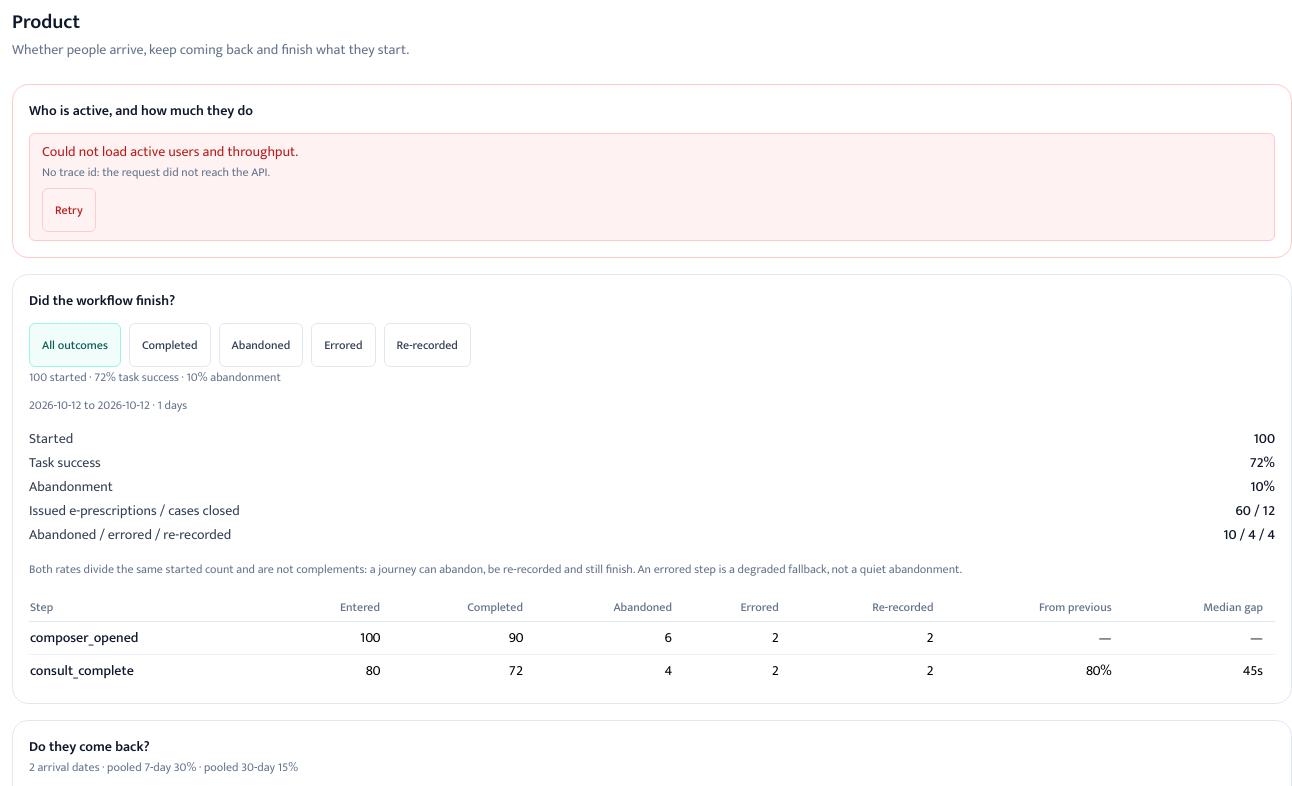
Test: ObservabilityProductPage › retries the failed read rather than the page
expect the message with test id "product-active-users-error" is shown: met, box [29, 133, 1275, 241]
Click the button with test id "product-active-users-retry": coordinates (69, 210) [42, 188, 96, 232]
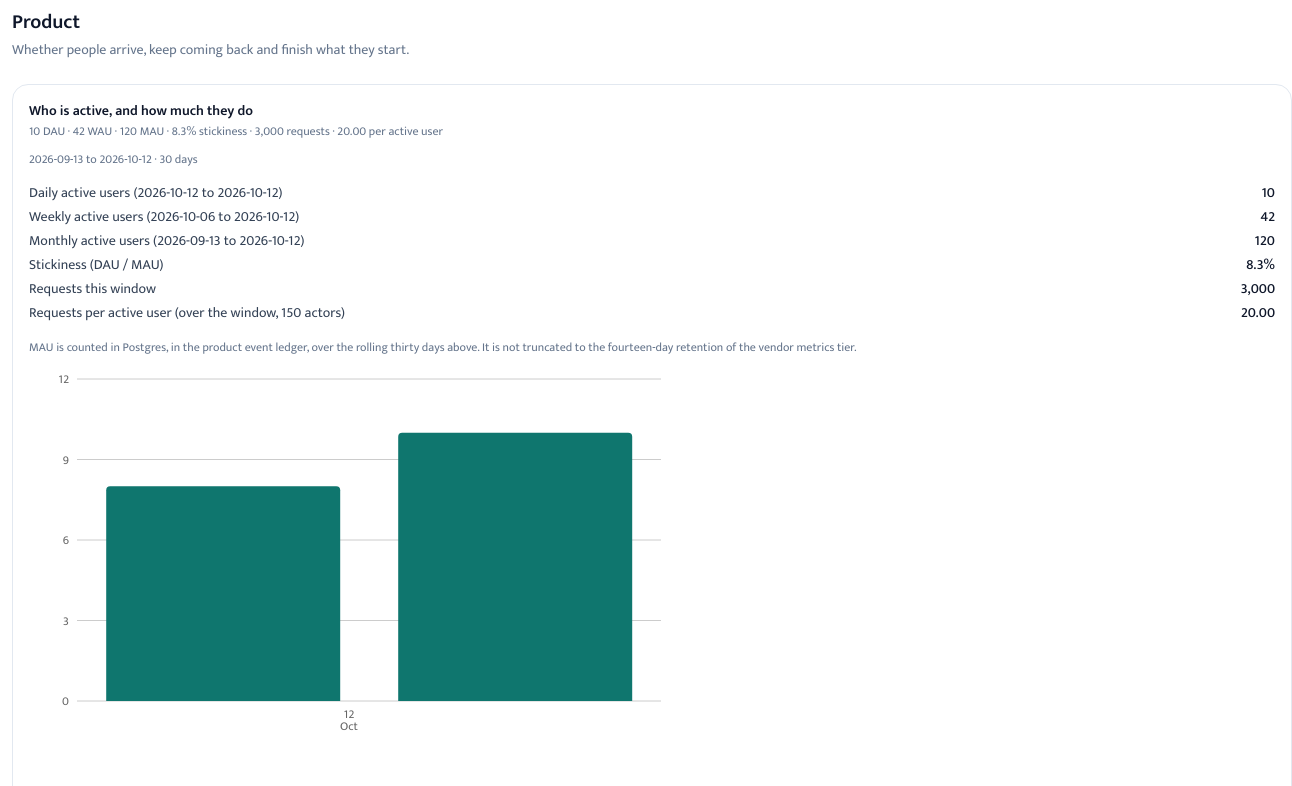
expect the text with test id "product-active-users-takeaway" shows "10 DAU": met, box [29, 121, 443, 141]
